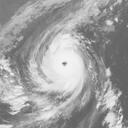cyclone: (27, 26, 96, 109)
